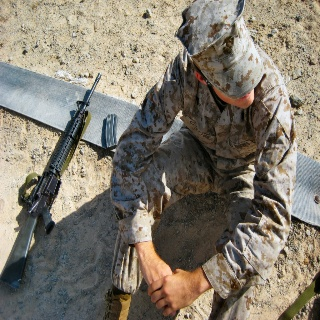rifle: (1, 71, 102, 287)
